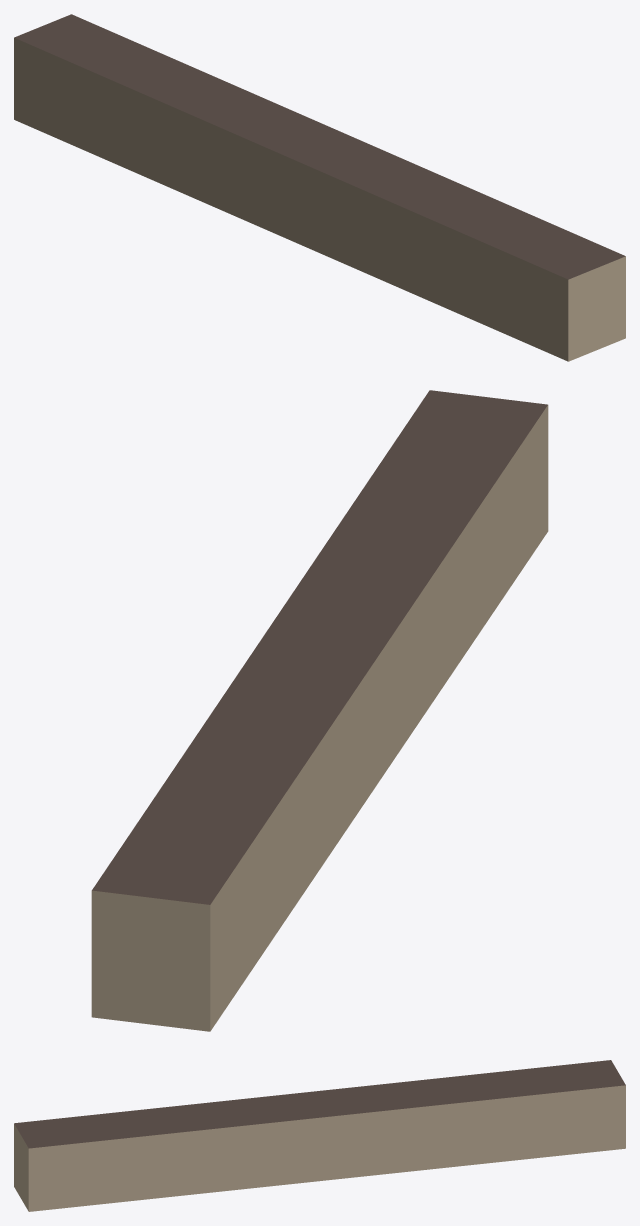
The picture shows the model from 3 angles, top to bottom: view 1: azimuth 30°, elevation 25°; view 2: azimuth 150°, elevation 25°; view 3: azimuth 270°, elevation 25°; orthographic projection. The views are drawn at different scales.
Parts seen in each view (by area): view 1: HP-w408450698; view 2: HP-w408450698; view 3: HP-w408450698.
Boxes of the visible parts, x1,y1,x2,y2 form: HP-w408450698: (14, 14, 625, 361); HP-w408450698: (91, 390, 548, 1031); HP-w408450698: (14, 1060, 625, 1211).
Size of the model in its own units: 26.95 by 9 by 78.7.
